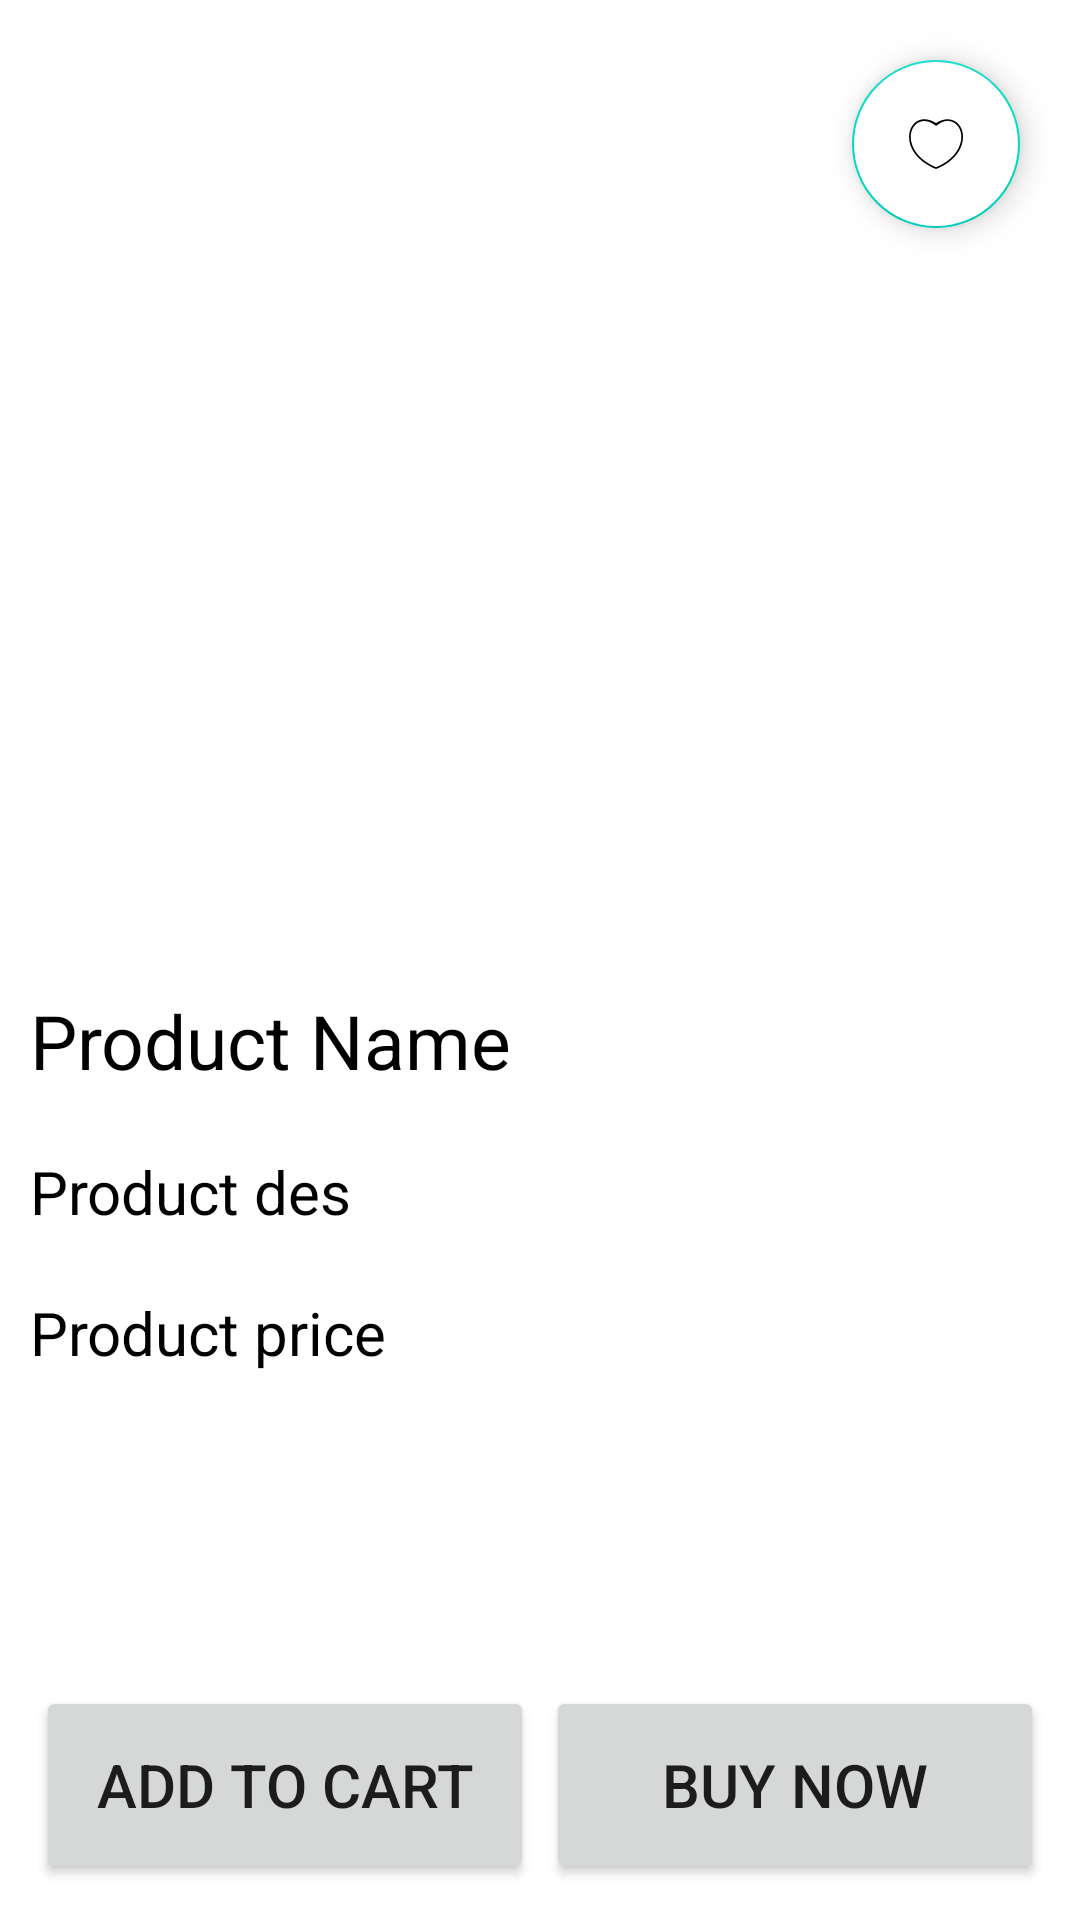

Where icons sit on this 1080*1920 app screen, as region(x1, y1, x2, y2):
heart: region(852, 60, 1020, 228)
